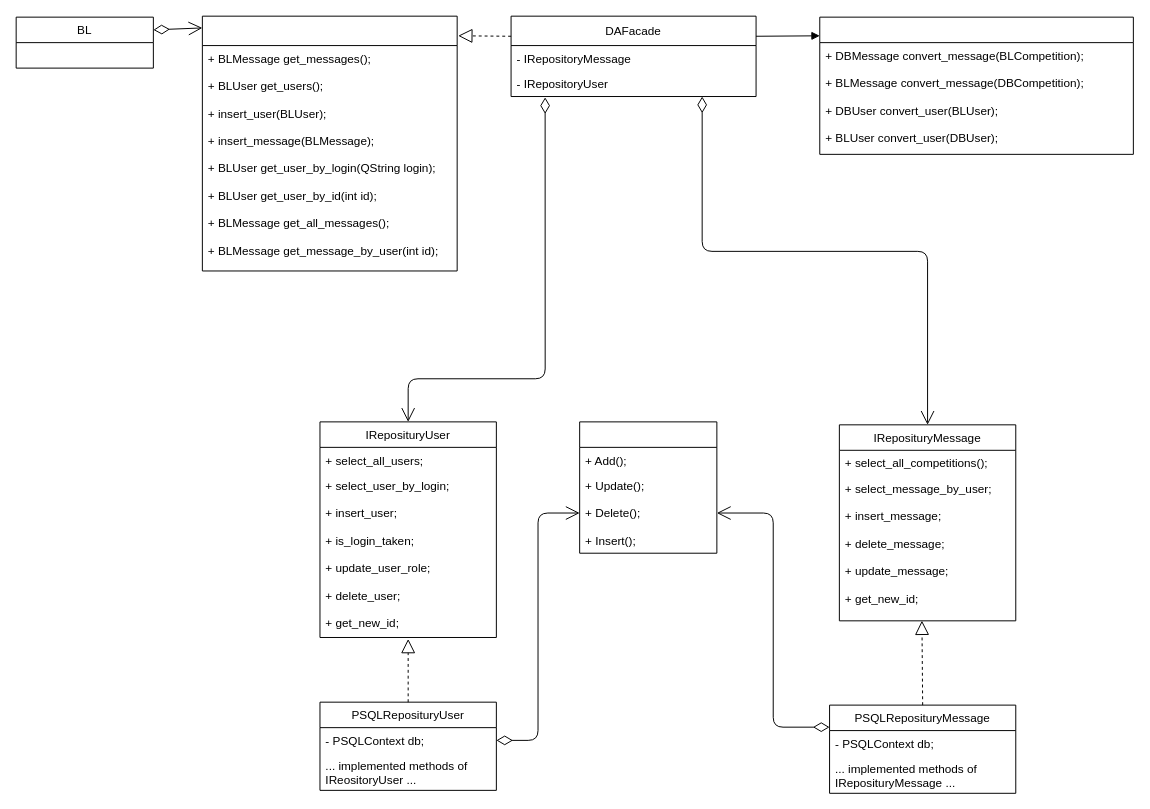
This 1150x809 diagram has some shape labels left out. The box of each missing label's shape, as (x1, y1, x2, y2) in pixels:
Converter: (819, 16, 1133, 154)
IRepFacade: (201, 15, 457, 271)
PSQL: (579, 421, 717, 553)
